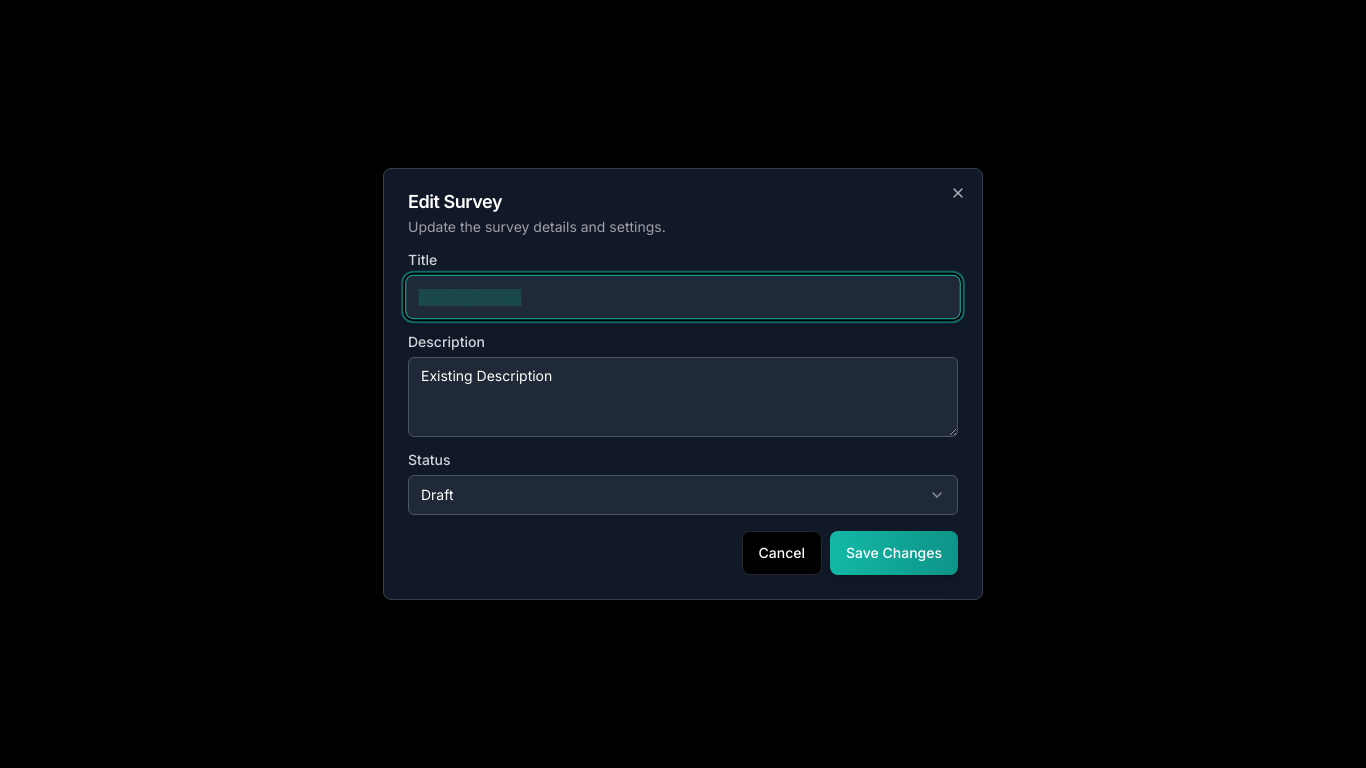
it: SurveyEditDialog › shows all status options for editing
Click the dropdown. click: (437, 494)
box: [408, 475, 958, 515]
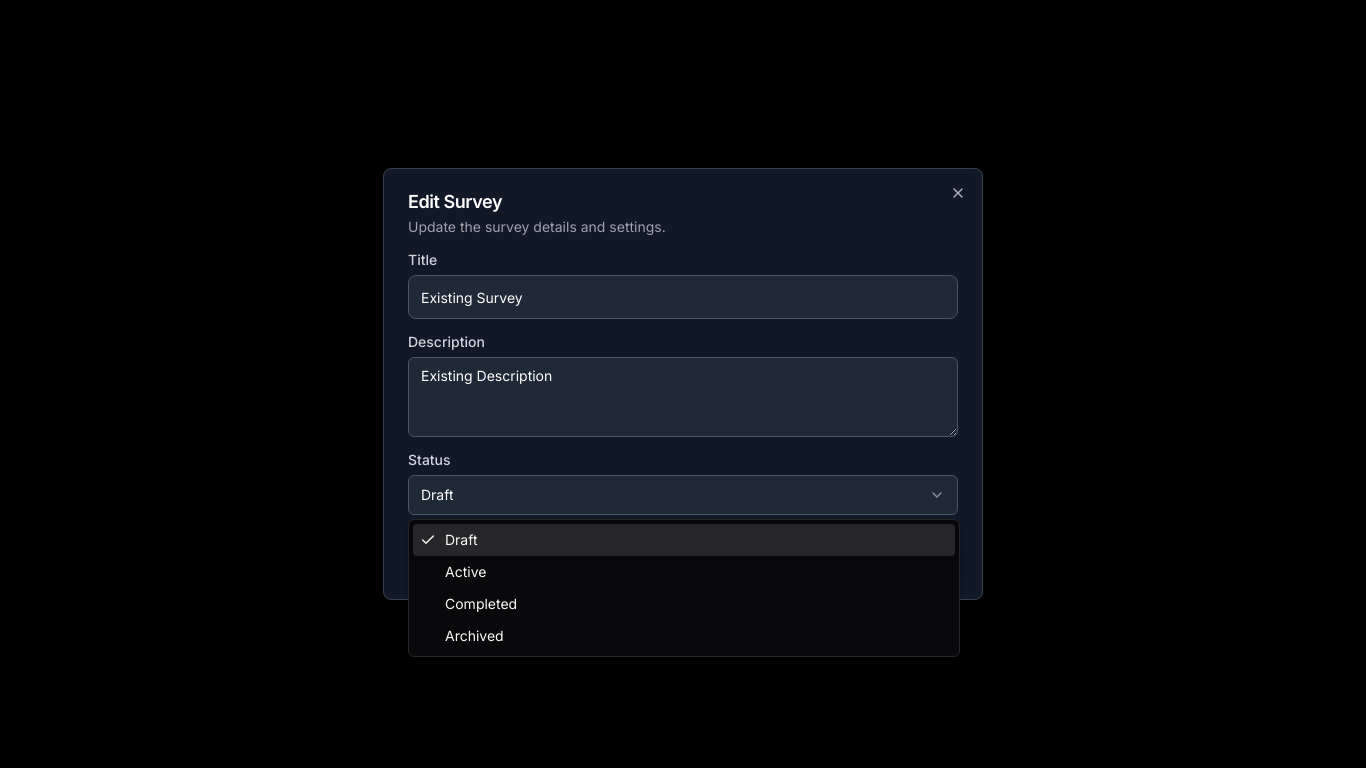
Now the option "Draft" is shown, box [413, 524, 955, 556]
Now the option "Active" is shown, box [445, 563, 486, 580]
Now the option "Completed" is shown, box [445, 595, 517, 612]
